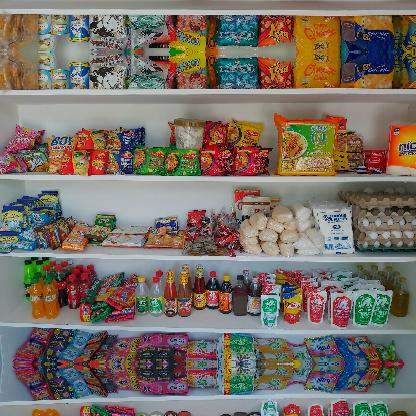Lady-s-Choice: (174, 118, 206, 150)
